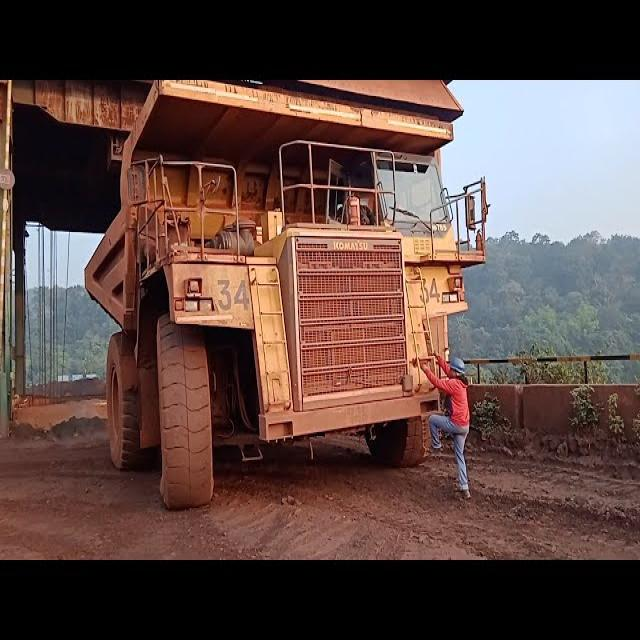dump_truck: (103, 78, 467, 489)
